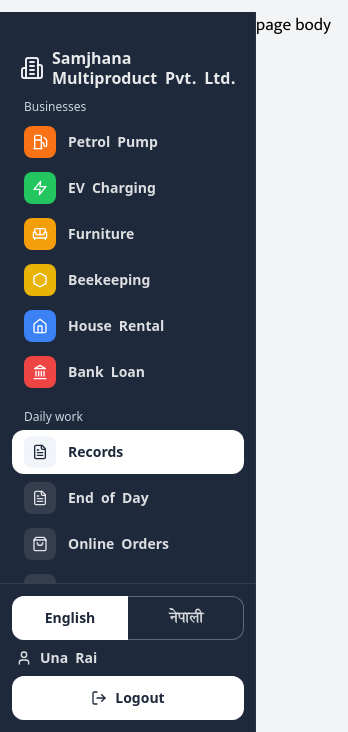
Test: DesktopShell › resizes to an icon rail at 76px and keeps language and logout available
Press the mouse on the element named "Resize sidebar" at (256, 372), box [250,12,262,731]
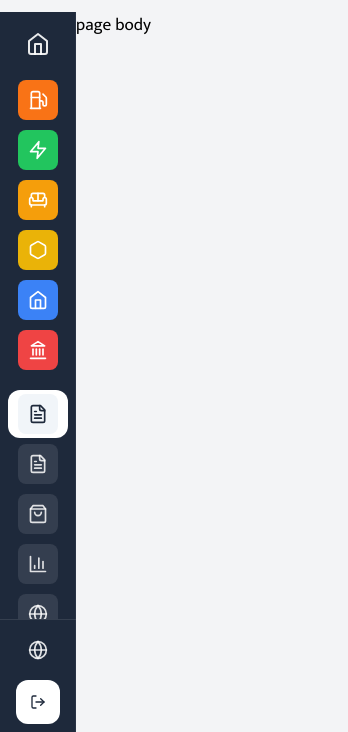
Expected: the button named "Logout" is shown, [16,680,60,724]
Expected: the button named "Switch language to Nepali" is shown, [16,628,60,672]
